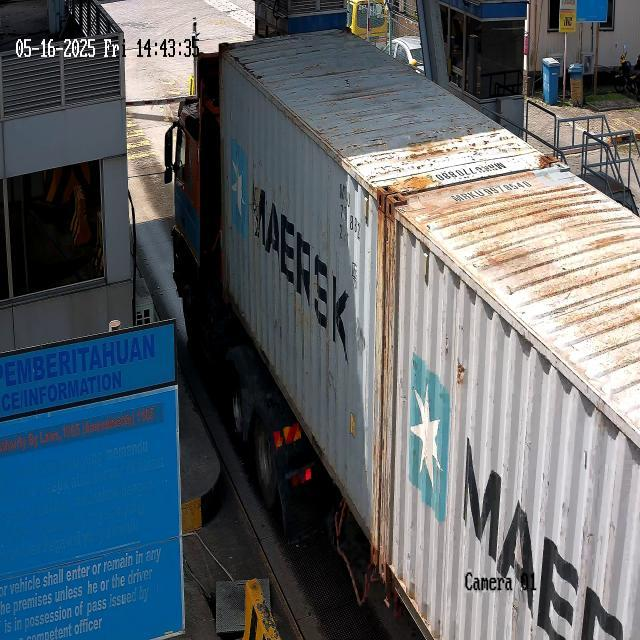ISO: (333, 220, 360, 254)
container_number: (332, 170, 368, 240)
